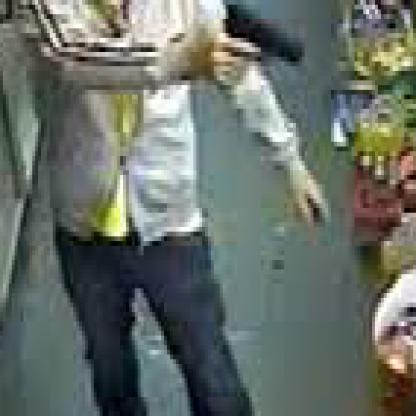gun: (211, 0, 319, 104)
